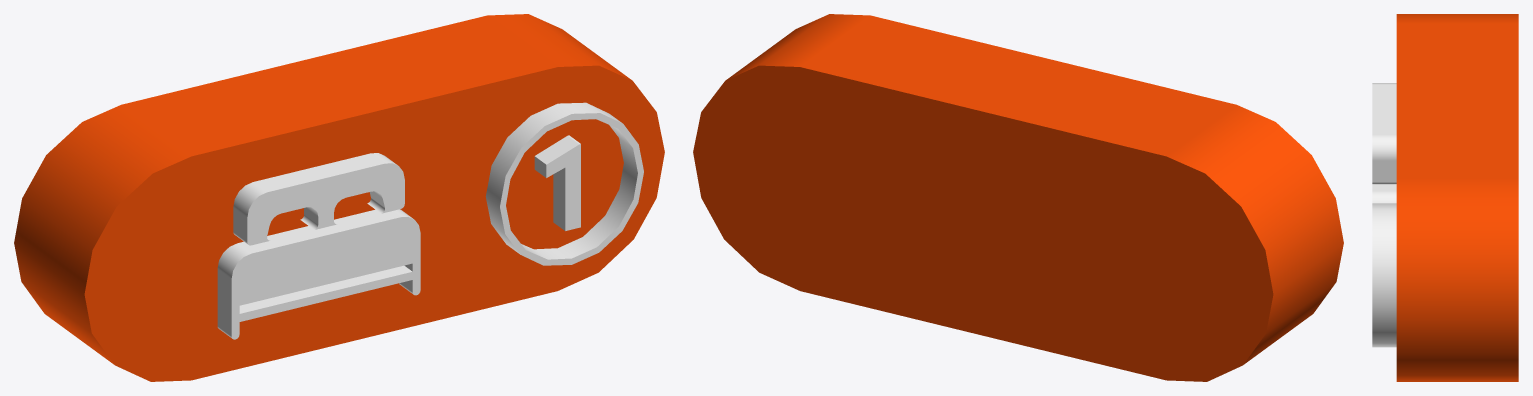
Rendered from Bed_1.fbx.
The picture shows the model from 3 angles, left to right: view 1: azimuth 30°, elevation 25°; view 2: azimuth 150°, elevation 25°; view 3: azimuth 270°, elevation 25°; orthographic projection. The views are drawn at different scales.
Visible parts, largest first — view 1: Orange, Object_4, Object_5, Object_1, Object_6; view 2: Orange; view 3: Orange, Object_1, Object_5, Object_4.
Part boxes in pixels (x1,y1,x2,y2): Orange: (14, 14, 664, 381); Object_4: (217, 209, 420, 339); Object_5: (233, 153, 404, 245); Object_1: (485, 102, 643, 265); Object_6: (534, 135, 580, 230); Orange: (693, 14, 1343, 381); Orange: (1396, 14, 1518, 381); Object_1: (1372, 203, 1396, 347); Object_5: (1372, 83, 1396, 184); Object_4: (1372, 184, 1396, 203).
Size of the model in its own units: 4.75 by 1.2 by 1.75.
